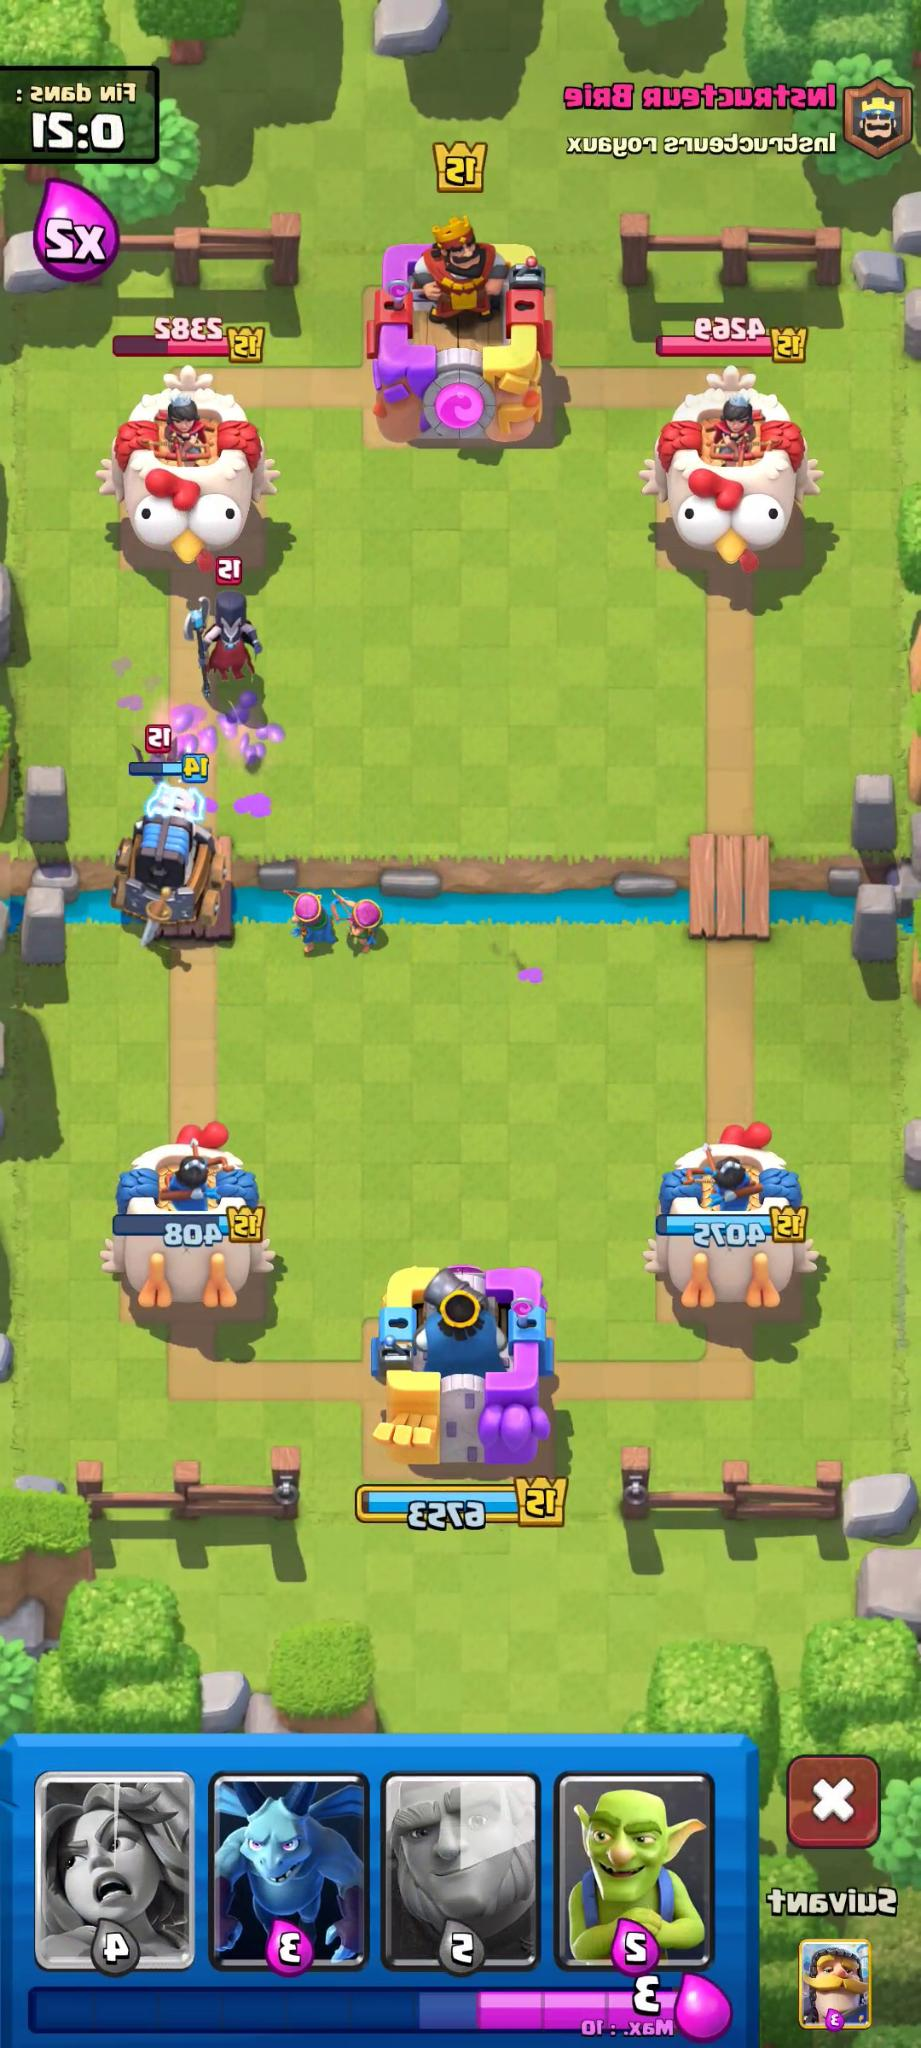archere: (328, 880, 391, 967), (280, 883, 344, 961)
bat: (121, 728, 188, 784)
zappy: (95, 765, 231, 959)
